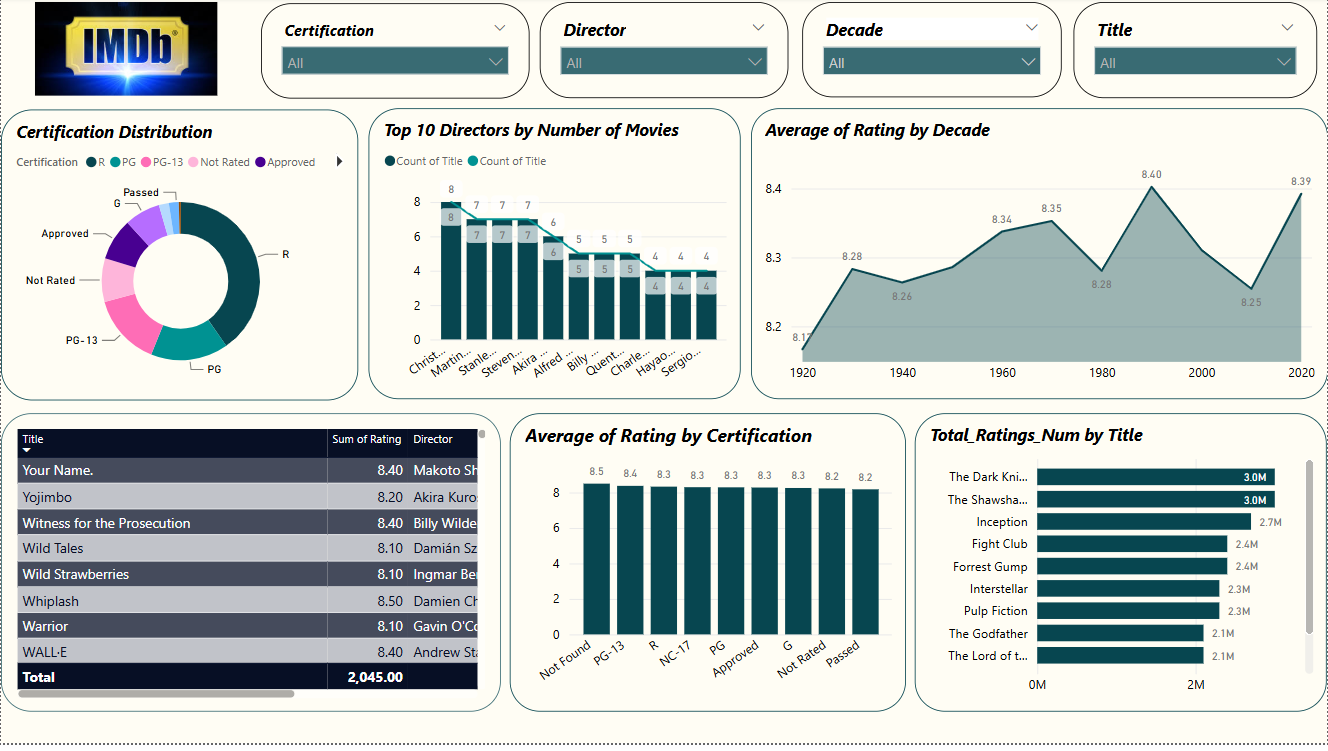

This screenshot's page, from the dashboard's own definition file:
{"tool":"powerbi","page":{"name":"Page 1","canvas":[1280,720],"ordinal":0},"visuals":[{"type":"lineStackedColumnComboChart","title":"Top 10 Directors by Number of Movies","fields":{"Category":["IMDB_Top_Movies_Cleaned_original.Director"],"Y":["IMDB_Top_Movies_Cleaned_original.Title"],"Y2":["IMDB_Top_Movies_Cleaned_original.Title"]},"box":[355.3,107.1,358.8,281.2],"z":0},{"type":"columnChart","fields":{"Category":["IMDB_Top_Movies_Cleaned_original.Certification"],"Y":["IMDB_Top_Movies_Cleaned_original.Rating"]},"box":[490.6,401.2,382.4,288.2],"z":1000},{"type":"lineChart","fields":{"Y":["IMDB_Top_Movies_Cleaned_original.Rating"],"Category":["IMDB_Top_Movies_Cleaned_original.Decade"]},"box":[723.5,107.1,556.5,281.2],"z":2000},{"type":"donutChart","title":"Certification Distribution","fields":{"Category":["IMDB_Top_Movies_Cleaned_original.Certification"],"Y":["IMDB_Top_Movies_Cleaned_original.Title"]},"box":[0,108.2,344.7,281.2],"z":3000},{"type":"tableEx","fields":{"Values":["IMDB_Top_Movies_Cleaned_original.Title","IMDB_Top_Movies_Cleaned_original.Rating","IMDB_Top_Movies_Cleaned_original.Director","IMDB_Top_Movies_Cleaned_original.Release_Year","IMDB_Top_Movies_Cleaned_original.Total_Ratings"]},"box":[0,401.2,482.4,288.2],"z":4000},{"type":"clusteredBarChart","title":"Total_Ratings_Num by Title","fields":{"Category":["IMDB_Top_Movies_Cleaned_original.Title"],"Y":["IMDB_Top_Movies_Cleaned_original.Total_Ratings_Num"]},"box":[882.4,401.2,397.6,288.2],"z":5000},{"type":"slicer","fields":{"Values":["IMDB_Top_Movies_Cleaned_original.Certification"]},"box":[250.6,5.9,258.8,91.8],"z":6000},{"type":"slicer","fields":{"Values":["IMDB_Top_Movies_Cleaned_original.Director"]},"box":[520,4.7,240,92.9],"z":7000},{"type":"slicer","fields":{"Values":["IMDB_Top_Movies_Cleaned_original.Decade"]},"box":[772.9,4.7,250.6,91.8],"z":8000},{"type":"slicer","fields":{"Values":["IMDB_Top_Movies_Cleaned_original.Title"]},"box":[1035.3,4.7,235.3,92.9],"z":9000},{"type":"image","box":[0,0,241.2,100],"z":10000}]}

Visuals, with their boxes in screenshot pixels (x1, y1, x2, y2), scaled from the page's 1280x720 canvas onto the 1328x751 screenshot:
"Top 10 Directors by Number of Movies" lineStackedColumnComboChart: BBox(369, 112, 741, 405)
columnChart - IMDB_Top_Movies_Cleaned_original.Certification x IMDB_Top_Movies_Cleaned_original.Rating: BBox(509, 418, 906, 719)
lineChart - IMDB_Top_Movies_Cleaned_original.Rating x IMDB_Top_Movies_Cleaned_original.Decade: BBox(751, 112, 1327, 405)
"Certification Distribution" donutChart: BBox(0, 113, 358, 406)
tableEx - IMDB_Top_Movies_Cleaned_original.Title x IMDB_Top_Movies_Cleaned_original.Rating: BBox(0, 418, 500, 719)
"Total_Ratings_Num by Title" clusteredBarChart: BBox(915, 418, 1327, 719)
slicer - IMDB_Top_Movies_Cleaned_original.Certification: BBox(260, 6, 529, 102)
slicer - IMDB_Top_Movies_Cleaned_original.Director: BBox(540, 5, 789, 102)
slicer - IMDB_Top_Movies_Cleaned_original.Decade: BBox(802, 5, 1062, 101)
slicer - IMDB_Top_Movies_Cleaned_original.Title: BBox(1074, 5, 1318, 102)
image: BBox(0, 0, 250, 104)
